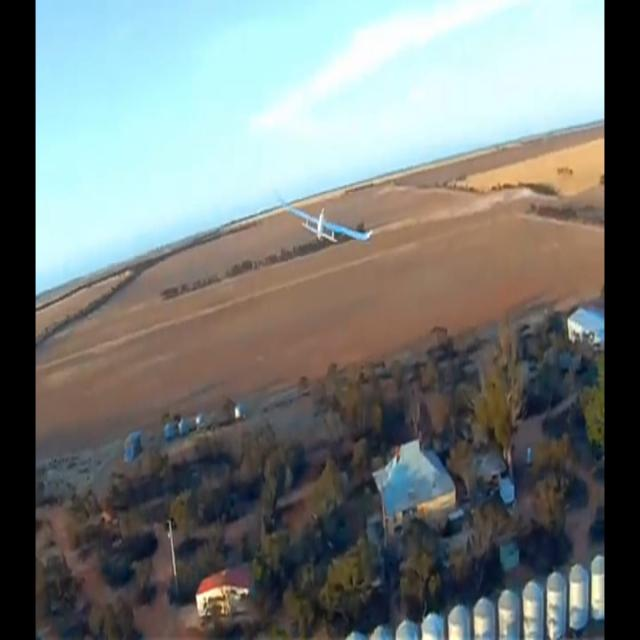iha: (307, 192, 342, 246)
